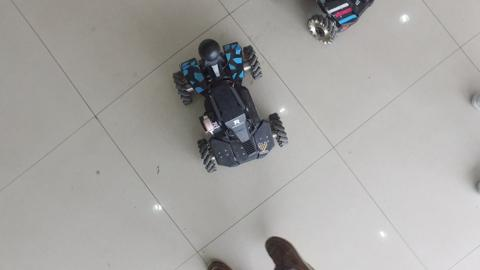chariot: (172, 33, 291, 176), (300, 1, 383, 47)
